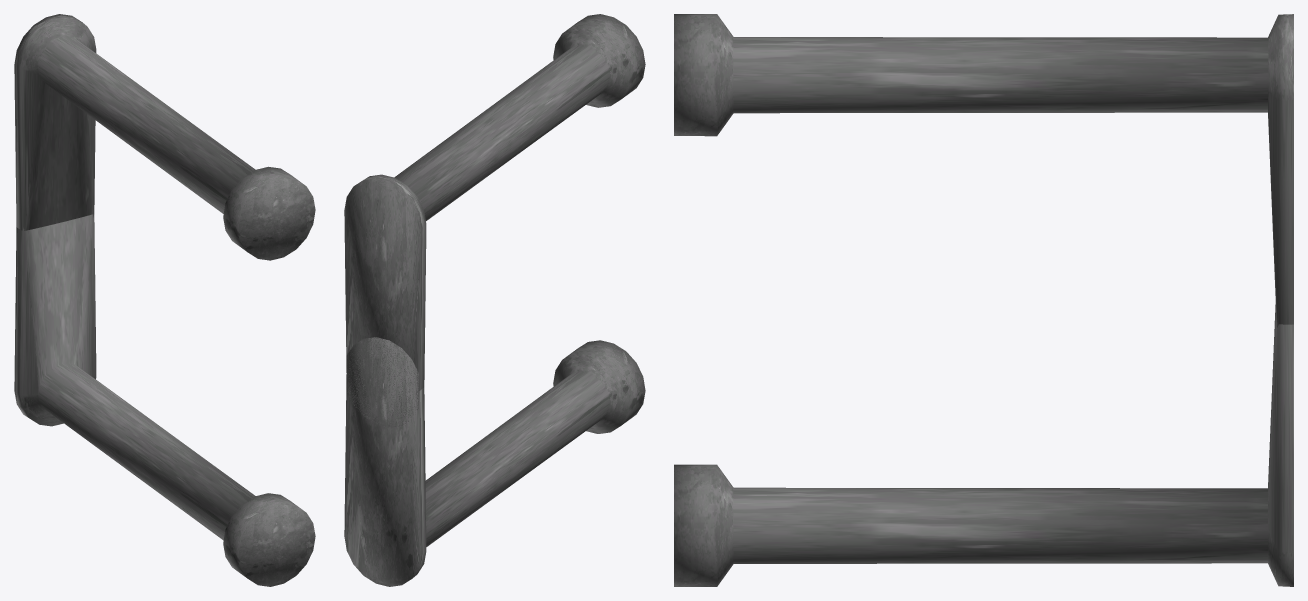
The model's file is Door.fbx.
3 views of the same model, side by side, from view 1: azimuth 30°, elevation 25°; view 2: azimuth 150°, elevation 25°; view 3: azimuth 270°, elevation 25° (orthographic). The views are drawn at different scales.
Visible parts, largest first — view 1: door; view 2: door; view 3: door.
Boxes of the visible parts, x1,y1,x2,y2 form: door: (14,14,315,586); door: (344,14,645,586); door: (674,14,1293,586).
Size of the model in its own units: 0.1978 by 0.9974 by 1.
